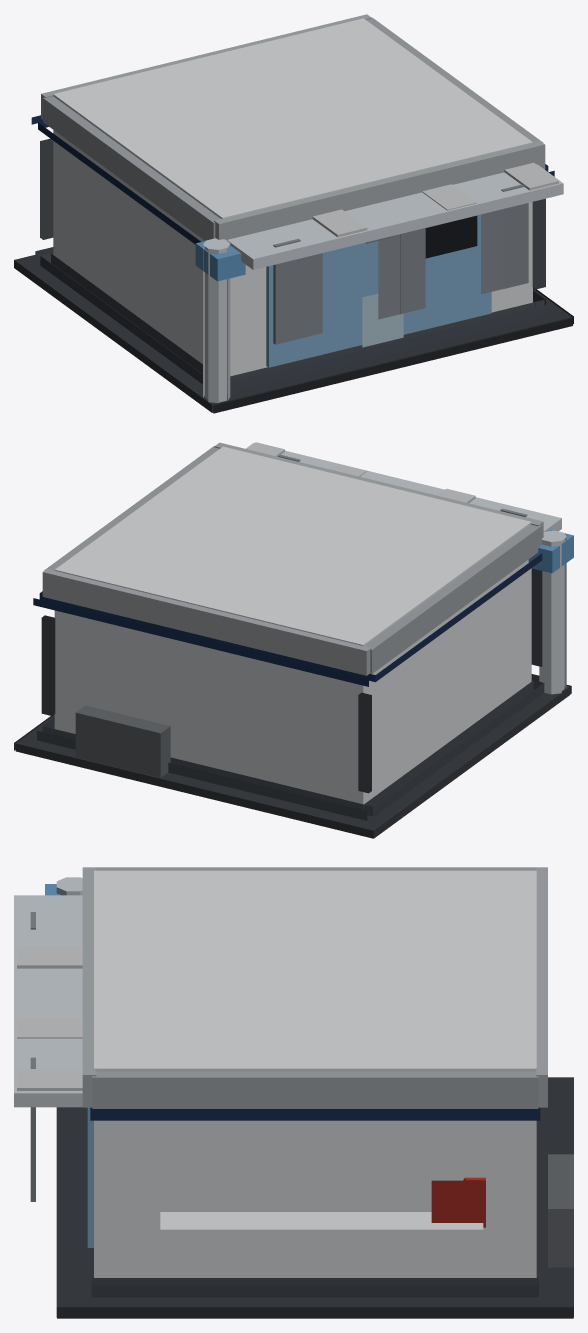
File: WalkingSuitcaseSil.fbx
3 renders of one model, top to bottom at view 1: azimuth 30°, elevation 25°; view 2: azimuth 150°, elevation 25°; view 3: azimuth 270°, elevation 25°, orthographic. The views are drawn at different scales.
Parts seen in each view (by area): view 1: AP_S_All; view 2: AP_S_All; view 3: AP_S_All.
Boxes of the visible parts, x1,y1,x2,y2 form: AP_S_All: [14, 14, 573, 413]; AP_S_All: [14, 442, 573, 838]; AP_S_All: [14, 867, 573, 1318].
Bounding box in the file's own units: 42.64 × 19.9 × 43.34.
